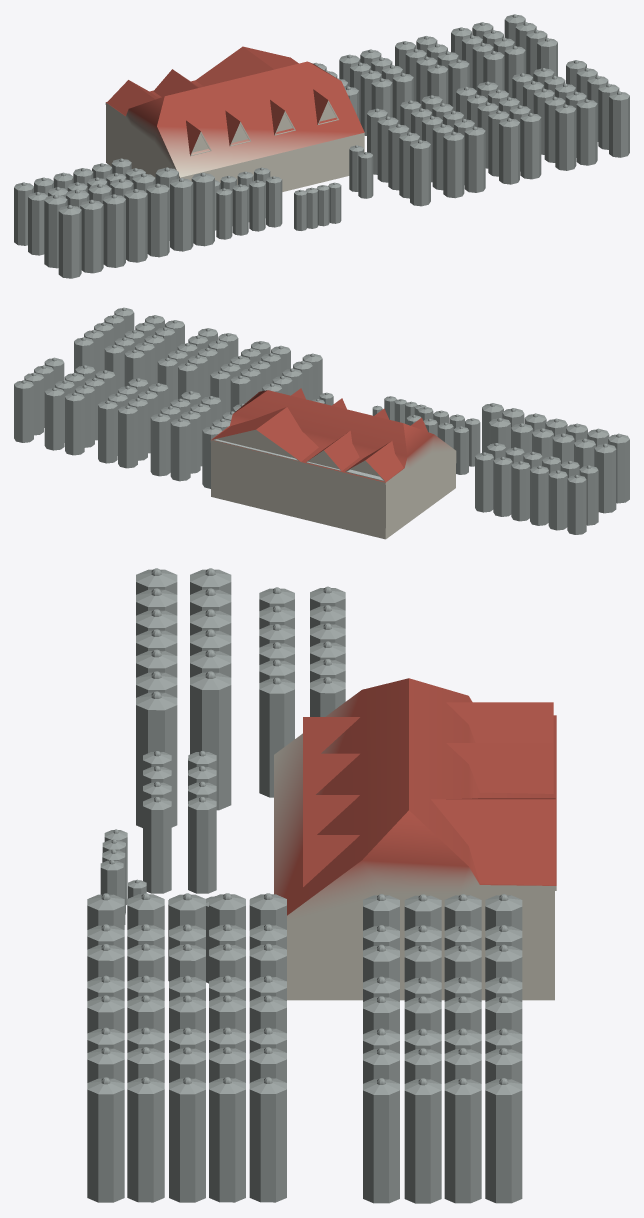
3 renders of one model, top to bottom at view 1: azimuth 30°, elevation 25°; view 2: azimuth 150°, elevation 25°; view 3: azimuth 270°, elevation 25°, orthographic. The views are drawn at different scales.
Parts seen in each view (by area): view 1: pCube12:PIV; view 2: pCube12:PIV; view 3: pCube12:PIV.
Part boxes in pixels (x1,y1,x2,y2): pCube12:PIV: (14,14,629,278); pCube12:PIV: (14,307,629,539); pCube12:PIV: (87,568,556,1203).
Size of the model in its own units: 136 by 21.1 by 52.52.
